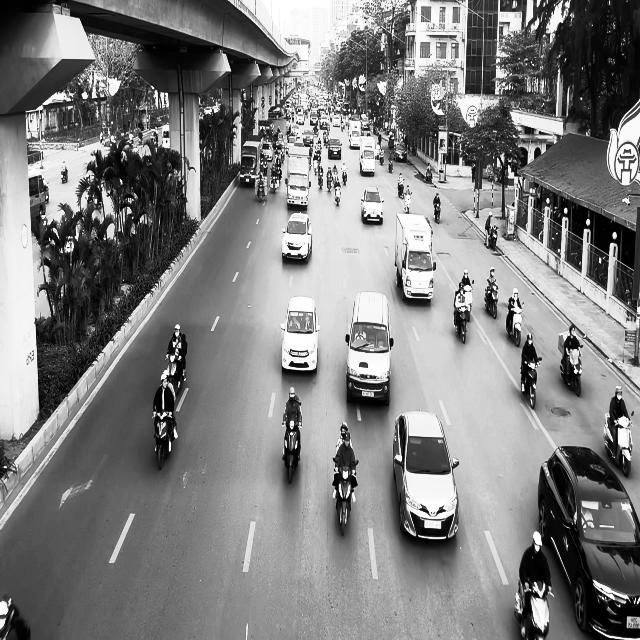car: (537, 445, 640, 639), (393, 410, 460, 541), (346, 291, 394, 406), (280, 296, 320, 373), (282, 212, 312, 263), (361, 186, 384, 223), (328, 137, 342, 159), (394, 141, 408, 161)
motorbike: (514, 578, 555, 640), (332, 457, 358, 536), (604, 410, 634, 477), (153, 409, 178, 470), (282, 419, 302, 484), (560, 344, 583, 396), (521, 356, 542, 408), (506, 302, 525, 346), (166, 353, 186, 394), (484, 284, 499, 319), (488, 225, 498, 250), (404, 192, 413, 214), (434, 203, 441, 223), (398, 180, 405, 199), (61, 165, 68, 183), (388, 156, 393, 172)
truck: (395, 212, 436, 302)
